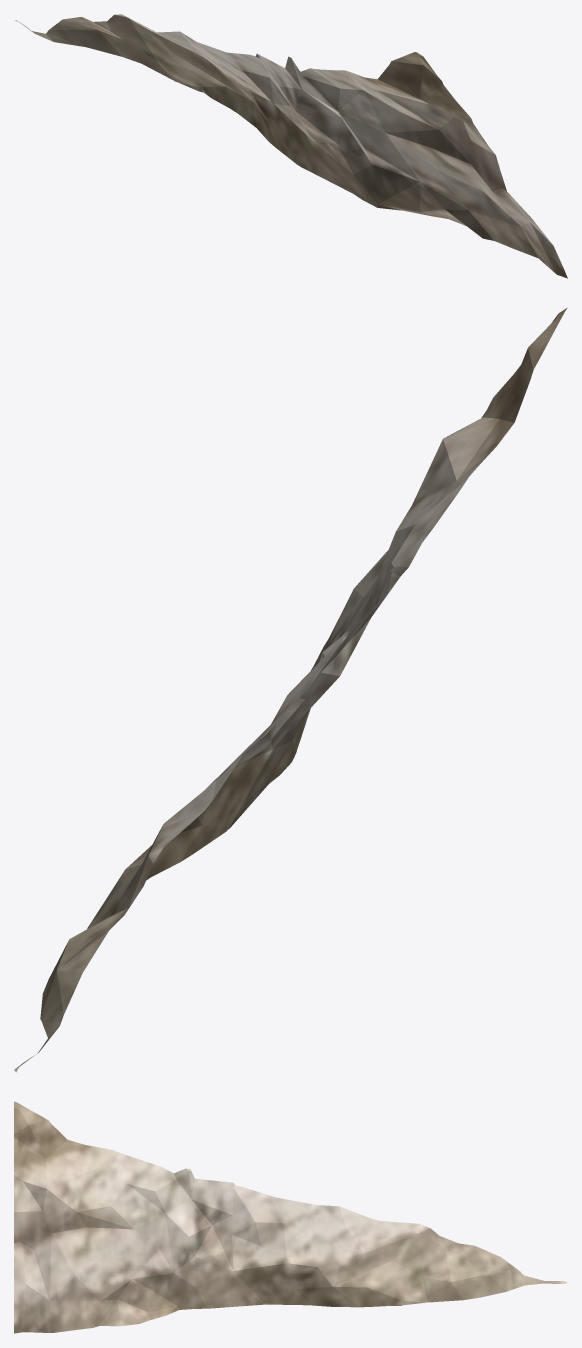
3 views of the same model, one above another, from view 1: azimuth 30°, elevation 25°; view 2: azimuth 150°, elevation 25°; view 3: azimuth 270°, elevation 25° (orthographic). The views are drawn at different scales.
Bounding box in the file's own units: 0.5146 × 0.8554 × 2.37.
Materials: 1 (1 with a texture image).
